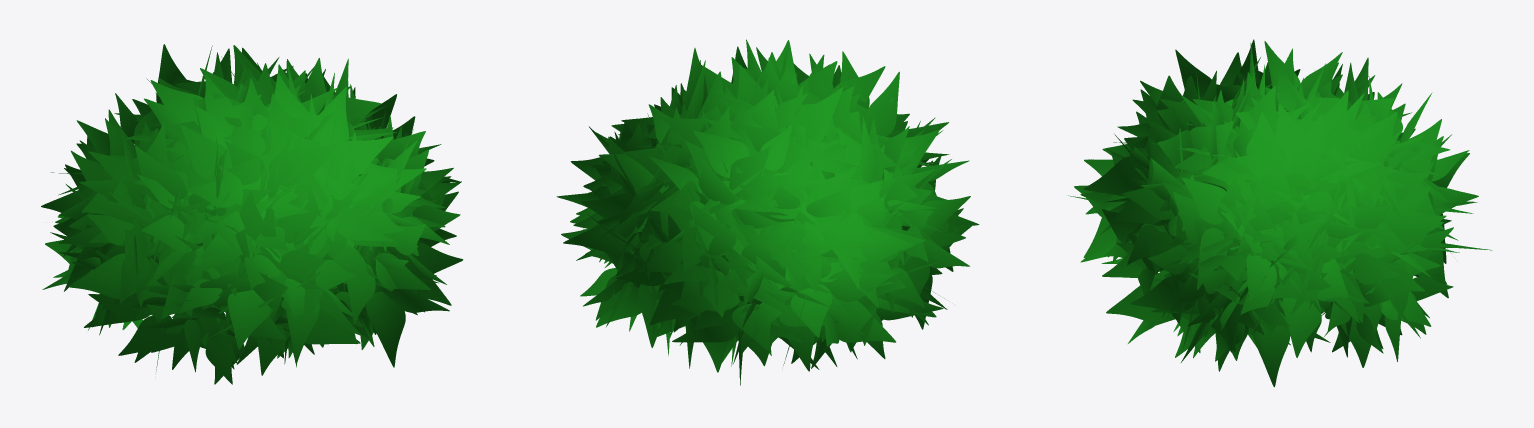
File: mod_arbusto.fbx
3 views of the same model, side by side, from view 1: azimuth 30°, elevation 25°; view 2: azimuth 150°, elevation 25°; view 3: azimuth 270°, elevation 25° (orthographic). The views are drawn at different scales.
Parts seen in each view (by area): view 1: Hoja.001; view 2: Hoja.001; view 3: Hoja.001.
Part boxes in pixels (bbox=[...]): Hoja.001: bbox=[41, 44, 463, 384]; Hoja.001: bbox=[556, 39, 979, 385]; Hoja.001: bbox=[1068, 39, 1492, 387].
Size of the model in its own units: 2.61 by 1.83 by 2.55.
